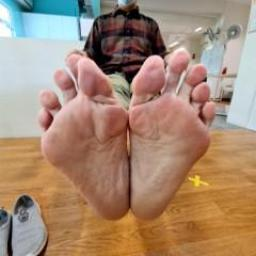Plantar View -Both Feet-: (22, 29, 237, 231)
